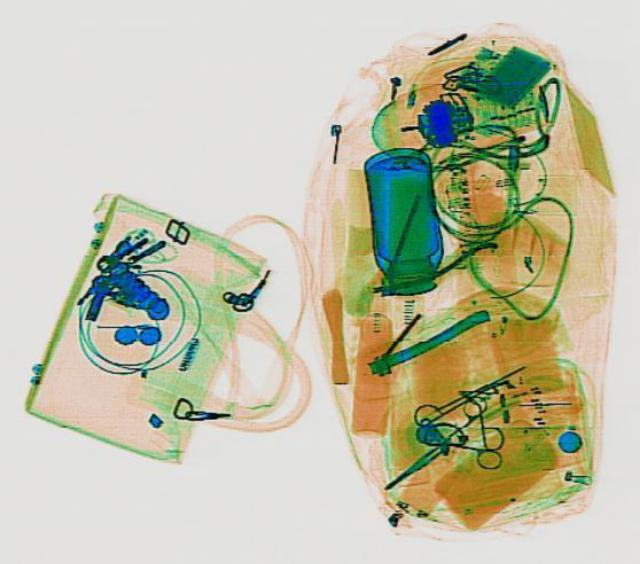Scissors: (362, 389, 520, 510)
